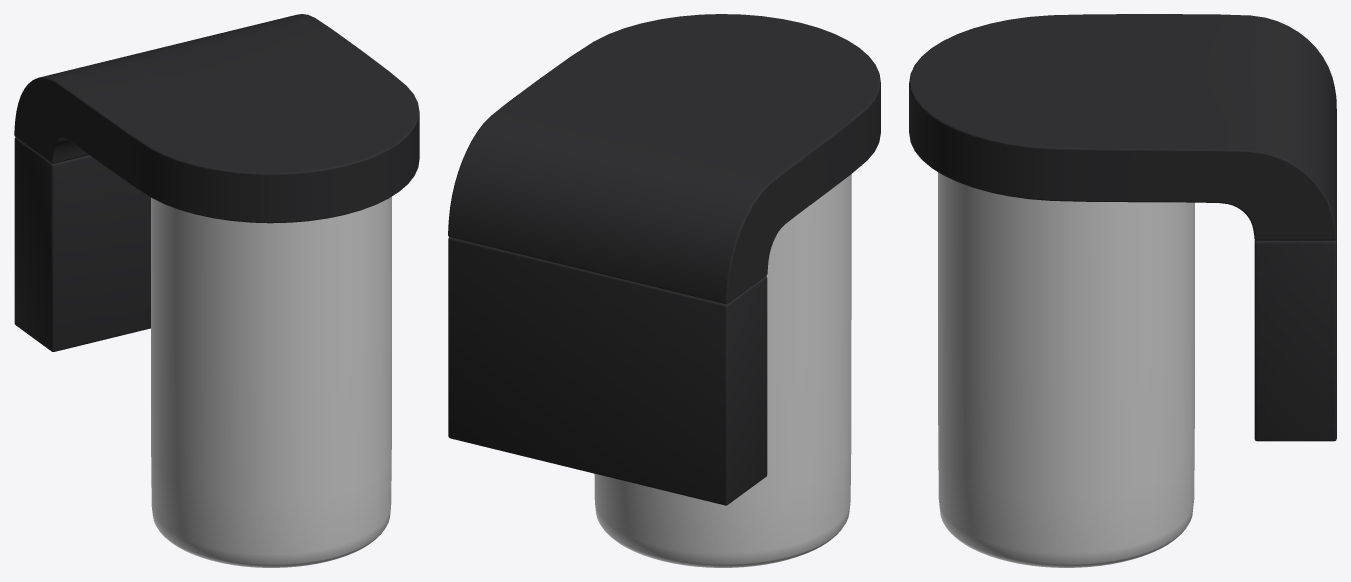
Rendered from CascadeWallLamp.glb.
3 renders of one model, left to right at view 1: azimuth 30°, elevation 25°; view 2: azimuth 150°, elevation 25°; view 3: azimuth 270°, elevation 25°, orthographic. The views are drawn at different scales.
Visible parts, largest first — view 1: Glass.001, Base.001, Base.002; view 2: Base.001, Base.002, Glass.001; view 3: Glass.001, Base.001, Base.002.
Part boxes in pixels (bbox=[...]): Glass.001: bbox=[151, 196, 391, 567]; Base.001: bbox=[14, 14, 419, 223]; Base.002: bbox=[14, 137, 150, 351]; Base.001: bbox=[448, 14, 880, 304]; Base.002: bbox=[448, 237, 767, 505]; Glass.001: bbox=[594, 174, 851, 567]; Glass.001: bbox=[938, 172, 1194, 567]; Base.001: bbox=[909, 14, 1336, 240]; Base.002: bbox=[1254, 109, 1336, 441].
Bounding box in the file's own units: 0.12 × 0.1799 × 0.1593.
Materials: 3 (1 with a texture image).
